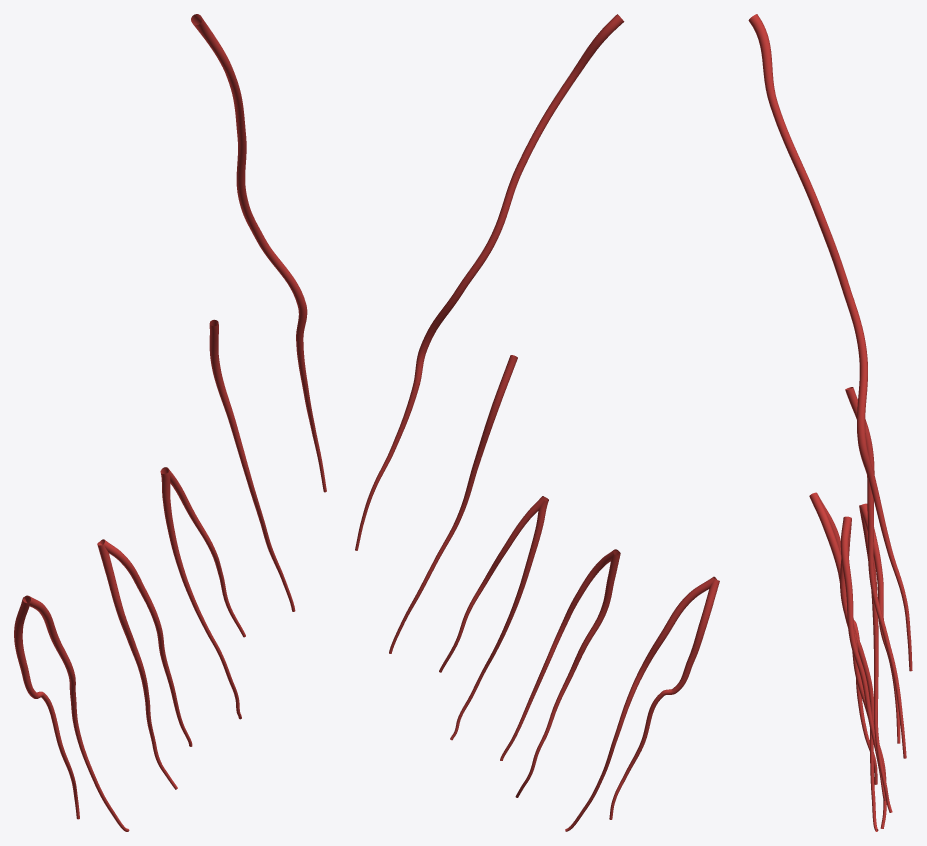
The picture shows the model from 3 angles, left to right: view 1: azimuth 30°, elevation 25°; view 2: azimuth 150°, elevation 25°; view 3: azimuth 270°, elevation 25°; orthographic projection. The views are drawn at different scales.
Visible parts, largest first — view 1: 左侧趾背动脉; view 2: 左侧趾背动脉; view 3: 左侧趾背动脉.
Part boxes in pixels (bbox=[...]): 左侧趾背动脉: bbox=[14, 14, 326, 831]; 左侧趾背动脉: bbox=[355, 14, 719, 831]; 左侧趾背动脉: bbox=[748, 14, 912, 831].
Bounding box in the file's own units: 0.0928 × 0.2157 × 0.0391.
